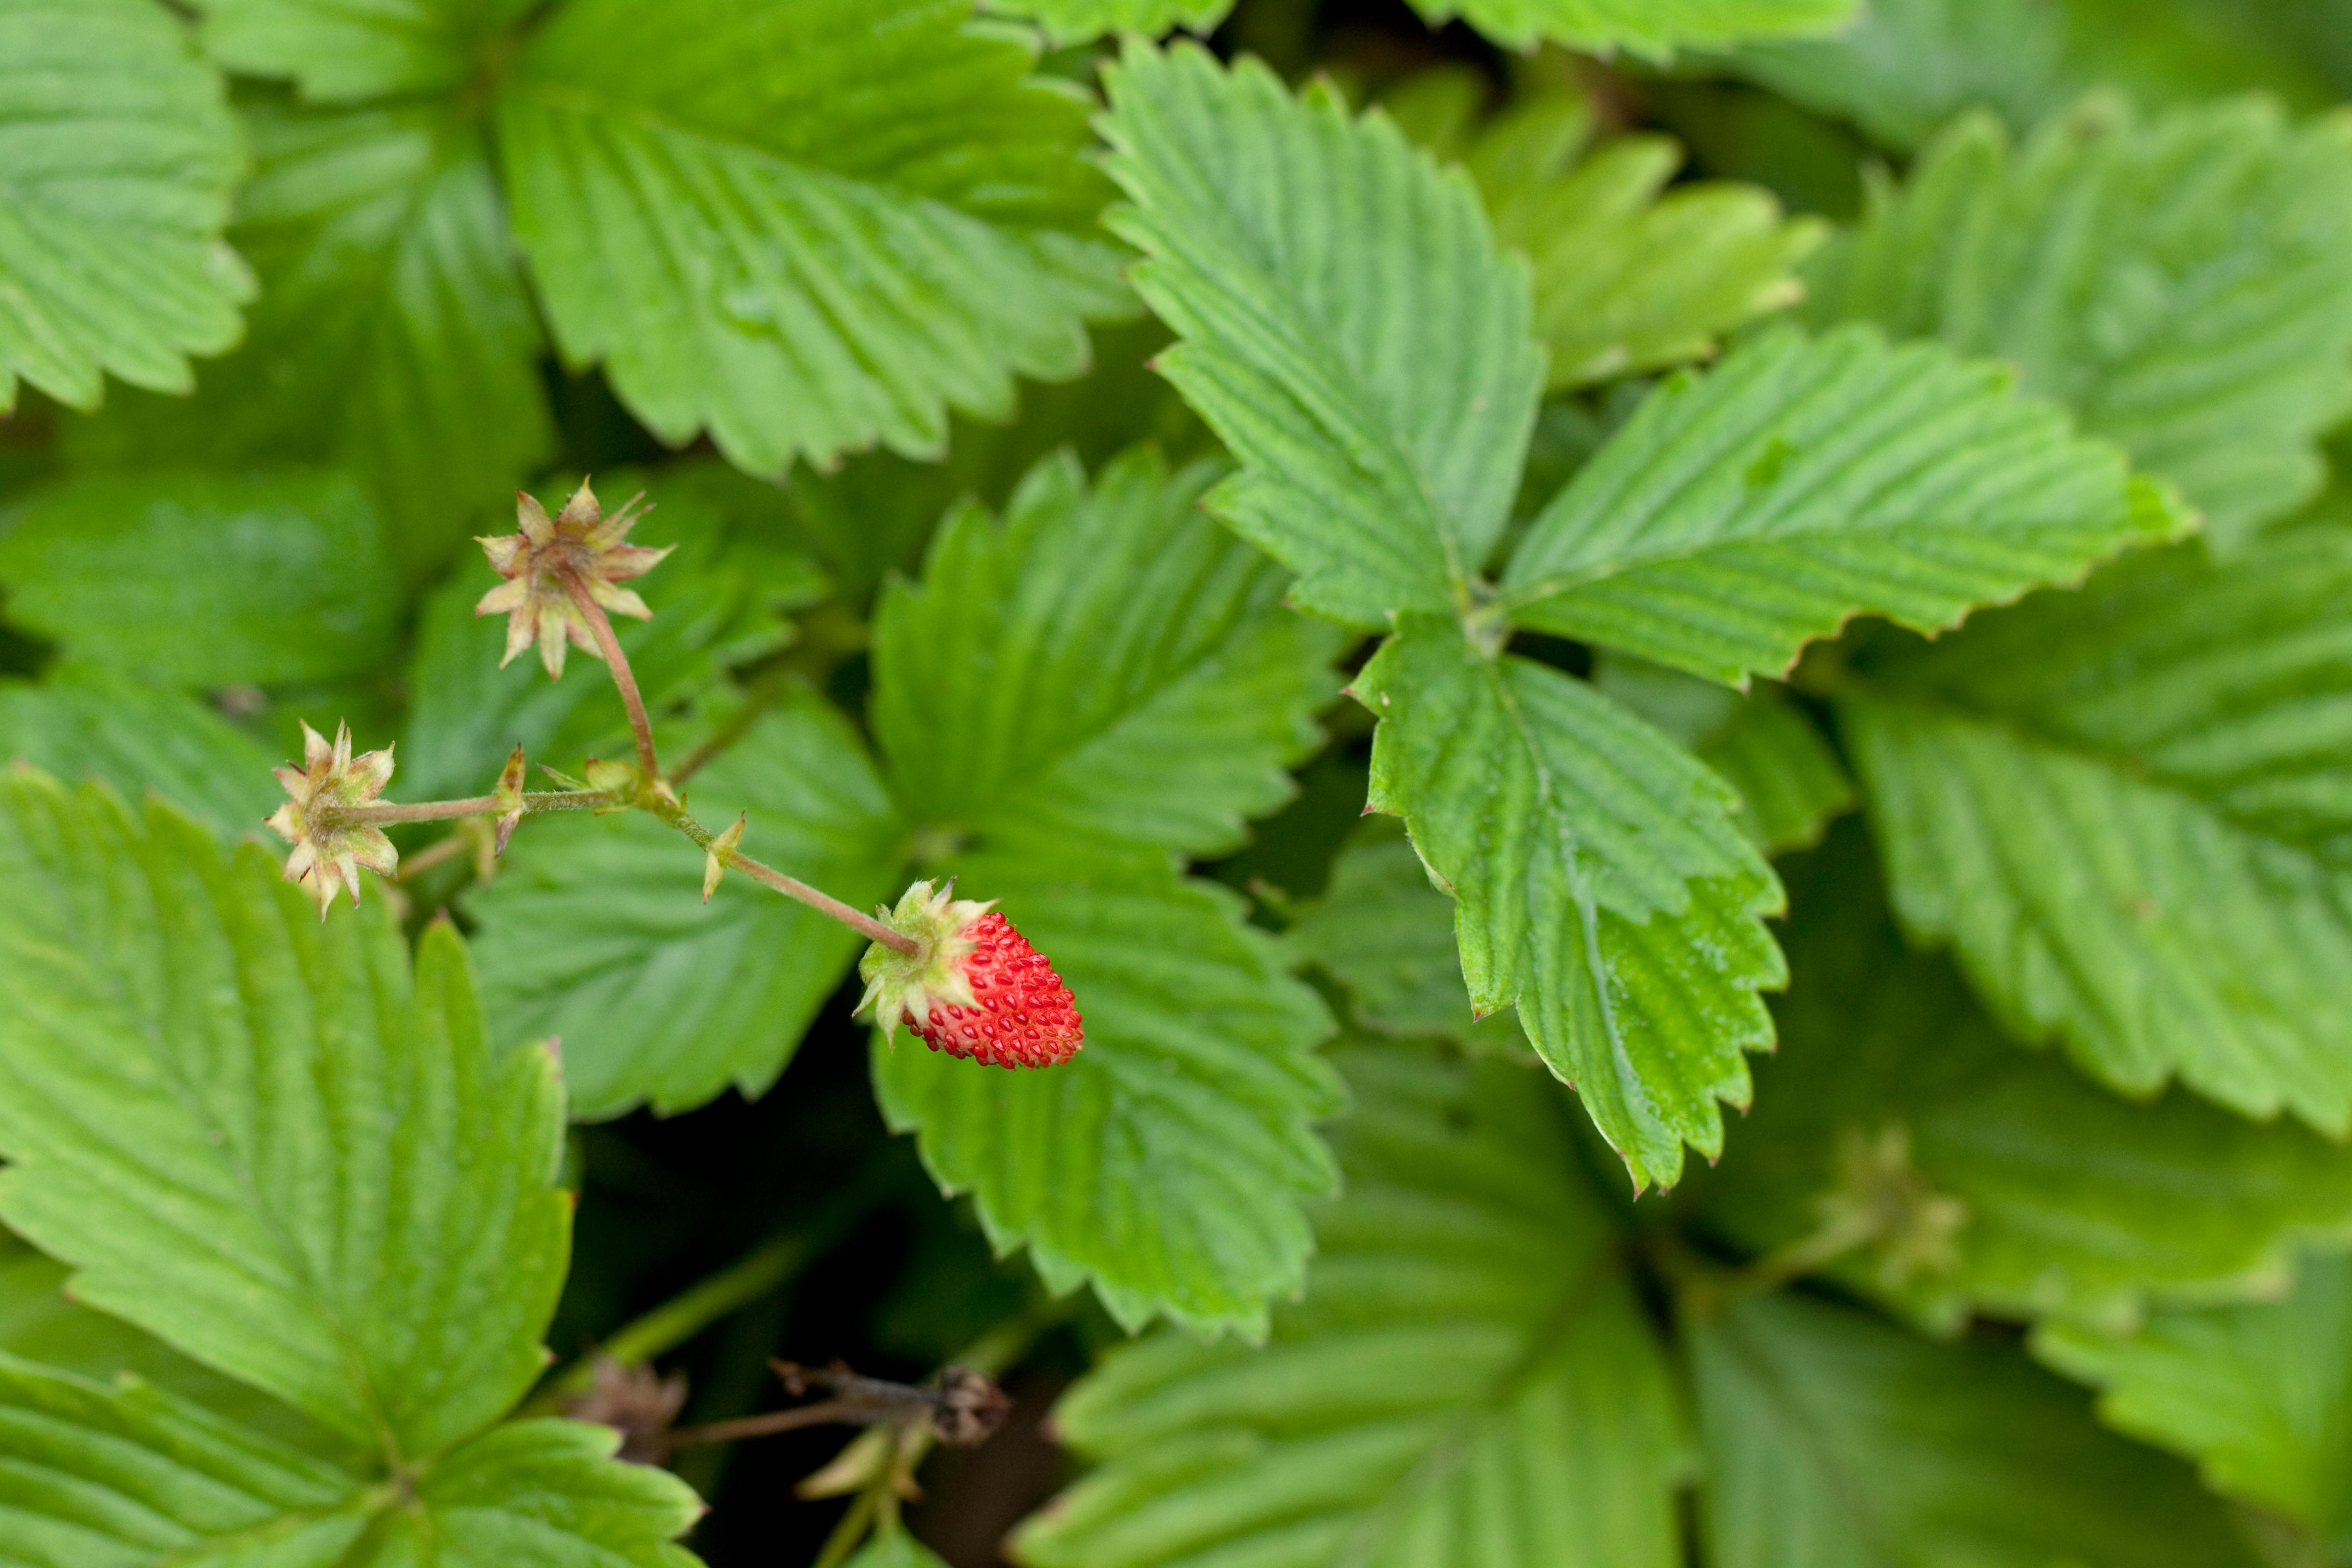Strawberry leaf: (1076, 23, 1584, 642), (1337, 577, 1825, 1200), (1510, 312, 2200, 686)
